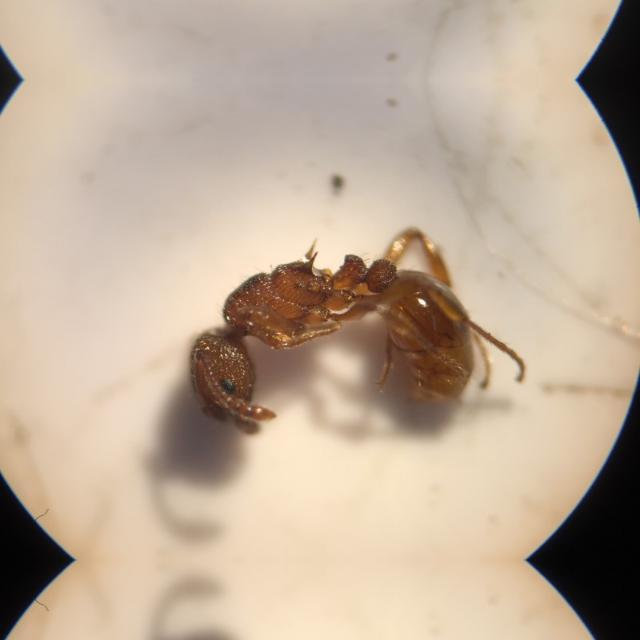Myrmica: (162, 202, 524, 468)
